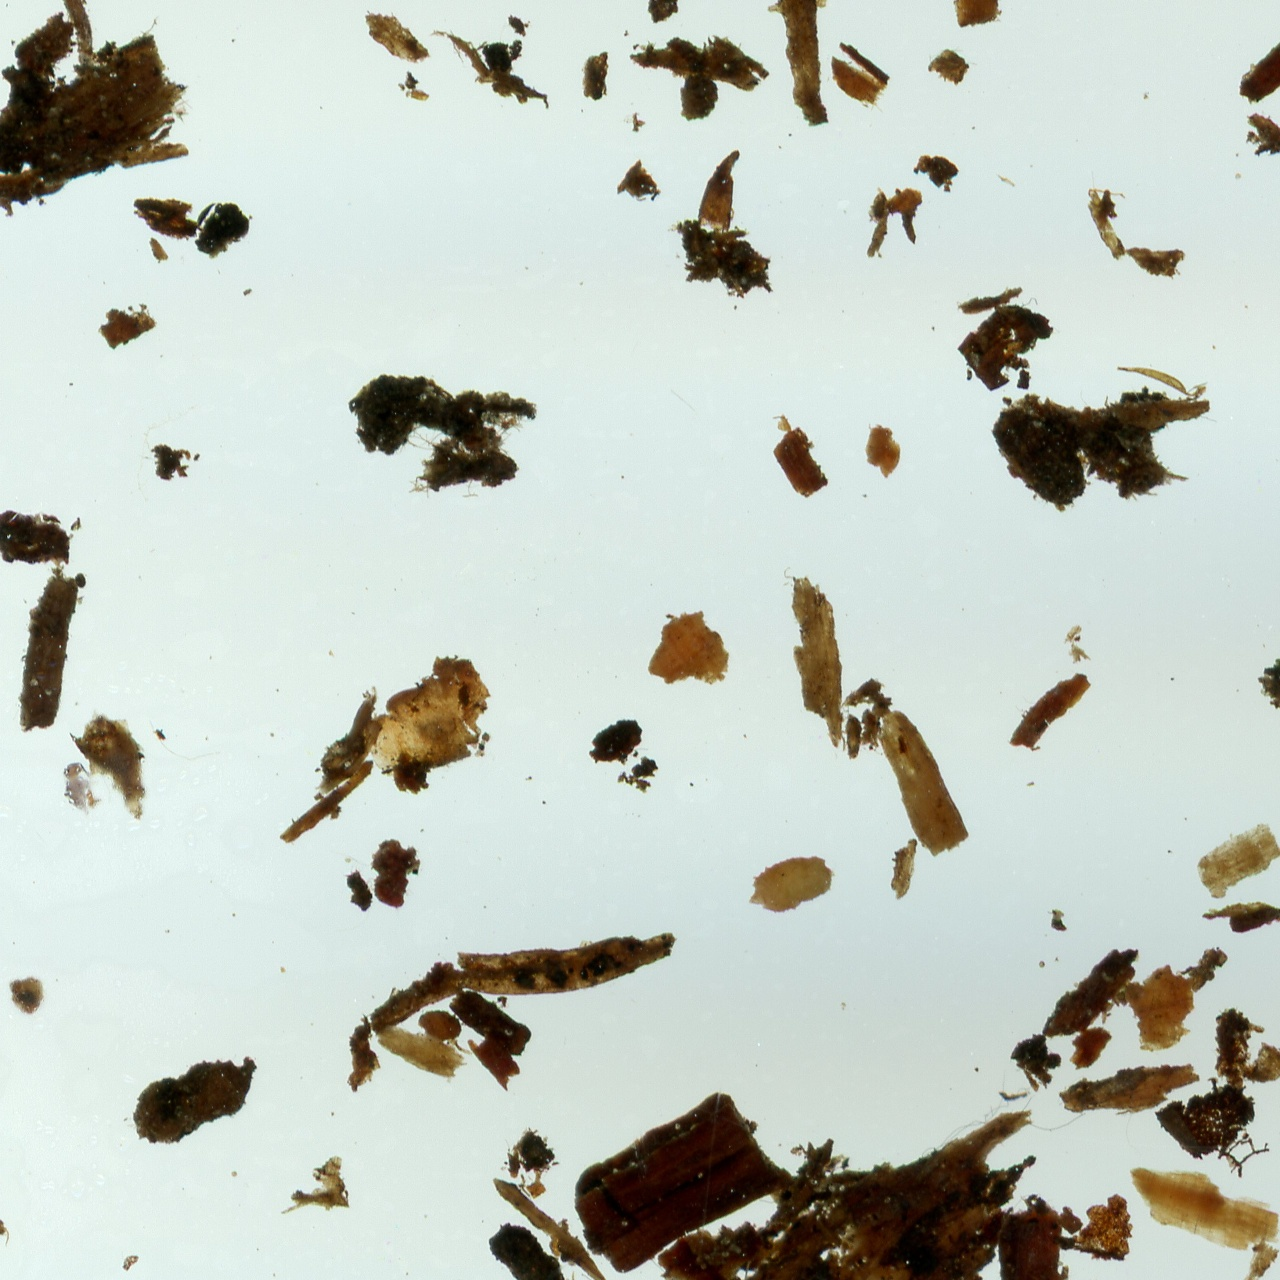arthropod: (51, 756, 108, 824)
